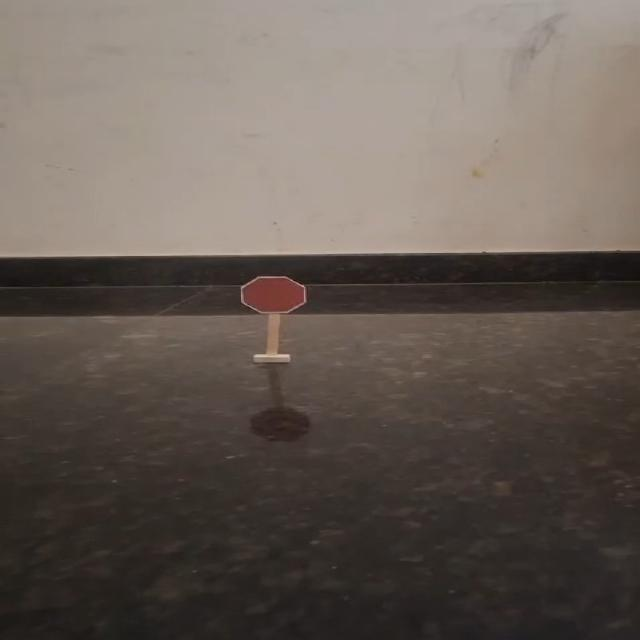Stop: (232, 269, 315, 319)
